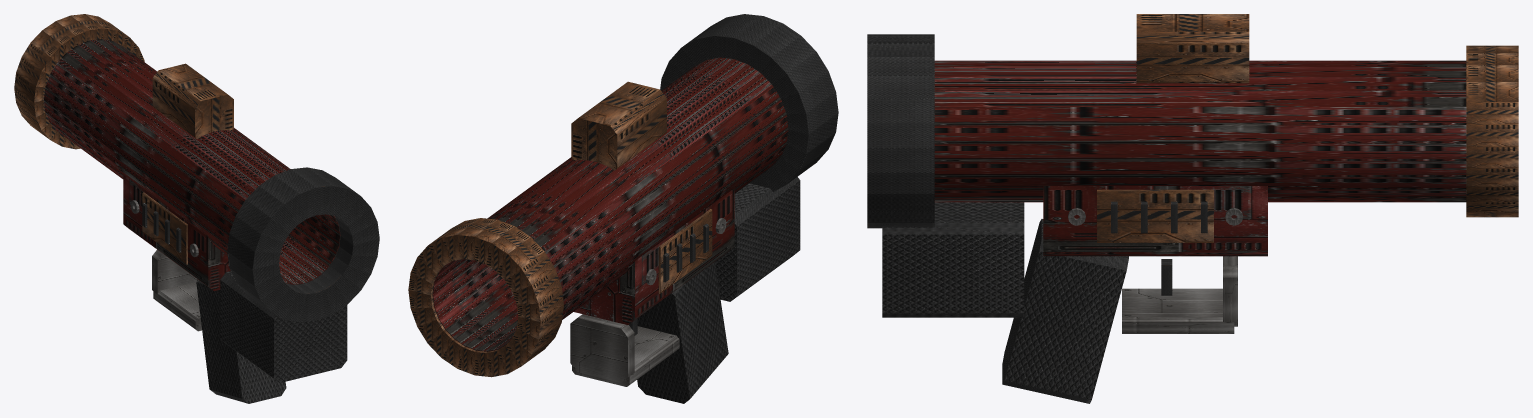
The model's file is rocket_launcher.gltf.
3 views of the same model, side by side, from view 1: azimuth 30°, elevation 25°; view 2: azimuth 150°, elevation 25°; view 3: azimuth 270°, elevation 25° (orthographic). The views are drawn at different scales.
Visible parts, largest first — view 1: LauncherTube, RearCollar, ShoulderRest, FrontCollar, Grip, Sight, Receiver, InsetPanel, TriggerGuard, GuardFront; view 2: LauncherTube, FrontCollar, RearCollar, Grip, ShoulderRest, Sight, Receiver, GuardFront, InsetPanel, TriggerGuard; view 3: LauncherTube, ShoulderRest, Grip, RearCollar, Receiver, FrontCollar, Sight, InsetPanel, TriggerGuard, GuardFront.
Boxes of the visible parts, bbox=[...] form: LauncherTube: bbox=[43, 39, 340, 284]; RearCollar: bbox=[227, 167, 379, 322]; ShoulderRest: bbox=[220, 271, 347, 382]; FrontCollar: bbox=[14, 14, 144, 149]; Grip: bbox=[196, 279, 286, 403]; Sight: bbox=[152, 63, 233, 139]; Receiver: bbox=[123, 175, 230, 290]; InsetPanel: bbox=[142, 192, 187, 264]; TriggerGuard: bbox=[153, 282, 201, 331]; GuardFront: bbox=[152, 249, 197, 293]; LauncherTube: bbox=[432, 57, 788, 351]; FrontCollar: bbox=[408, 218, 563, 377]; RearCollar: bbox=[660, 14, 838, 191]; Grip: bbox=[637, 262, 728, 403]; ShoulderRest: bbox=[715, 177, 800, 301]; Sight: bbox=[571, 81, 666, 170]; Receiver: bbox=[574, 188, 734, 324]; GuardFront: bbox=[570, 314, 634, 382]; InsetPanel: bbox=[658, 209, 712, 293]; TriggerGuard: bbox=[572, 326, 679, 386]; LauncherTube: bbox=[934, 60, 1466, 202]; ShoulderRest: bbox=[882, 202, 1024, 317]; Grip: bbox=[1002, 219, 1128, 403]; RearCollar: bbox=[867, 34, 934, 228]; Receiver: bbox=[1043, 186, 1267, 256]; FrontCollar: bbox=[1466, 45, 1518, 217]; Sight: bbox=[1136, 14, 1249, 83]; InsetPanel: bbox=[1097, 189, 1213, 242]; TriggerGuard: bbox=[1122, 288, 1234, 333]; GuardFront: bbox=[1223, 256, 1237, 326].
Size of what is drawn, in the model's own units: 0.195 by 0.4096 by 0.6525.
Materials: 4 (4 with a texture image).
